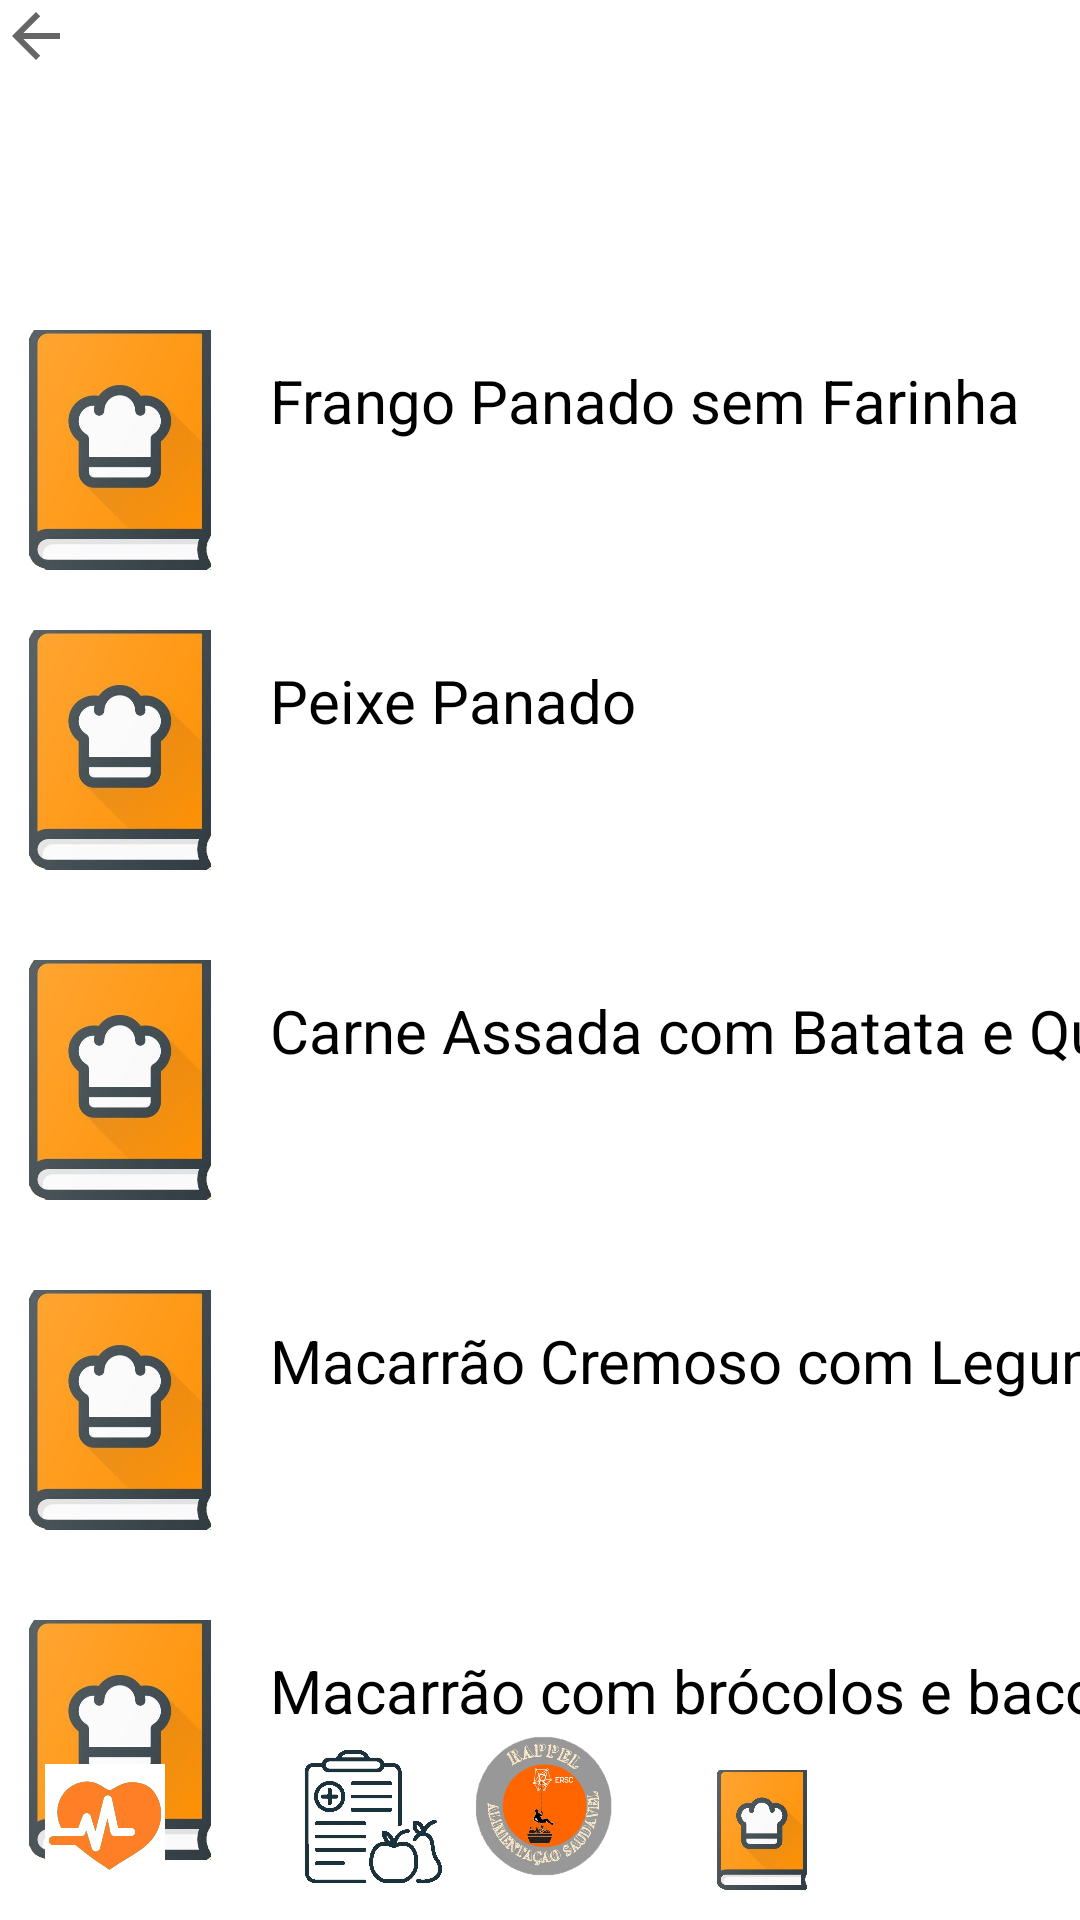

Named icons in this screenshot (1080x1920) and their centers, (x,y):
plano: (373,1816)
planodesaude: (105,1825)
